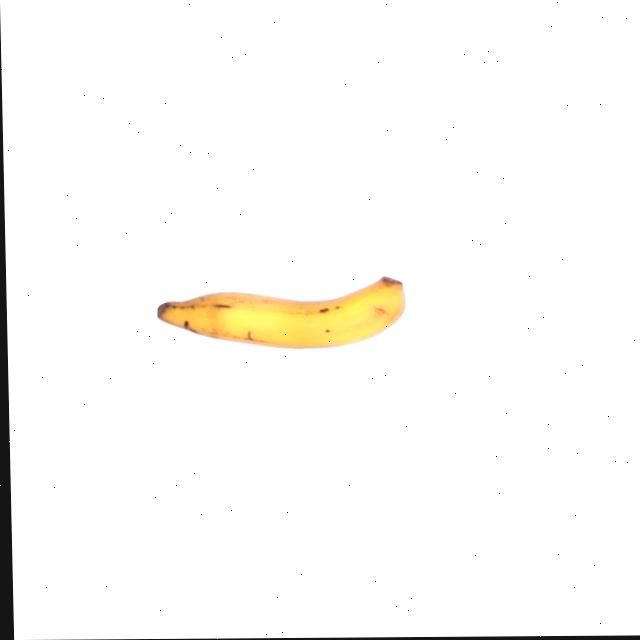banana: (154, 274, 411, 354)
